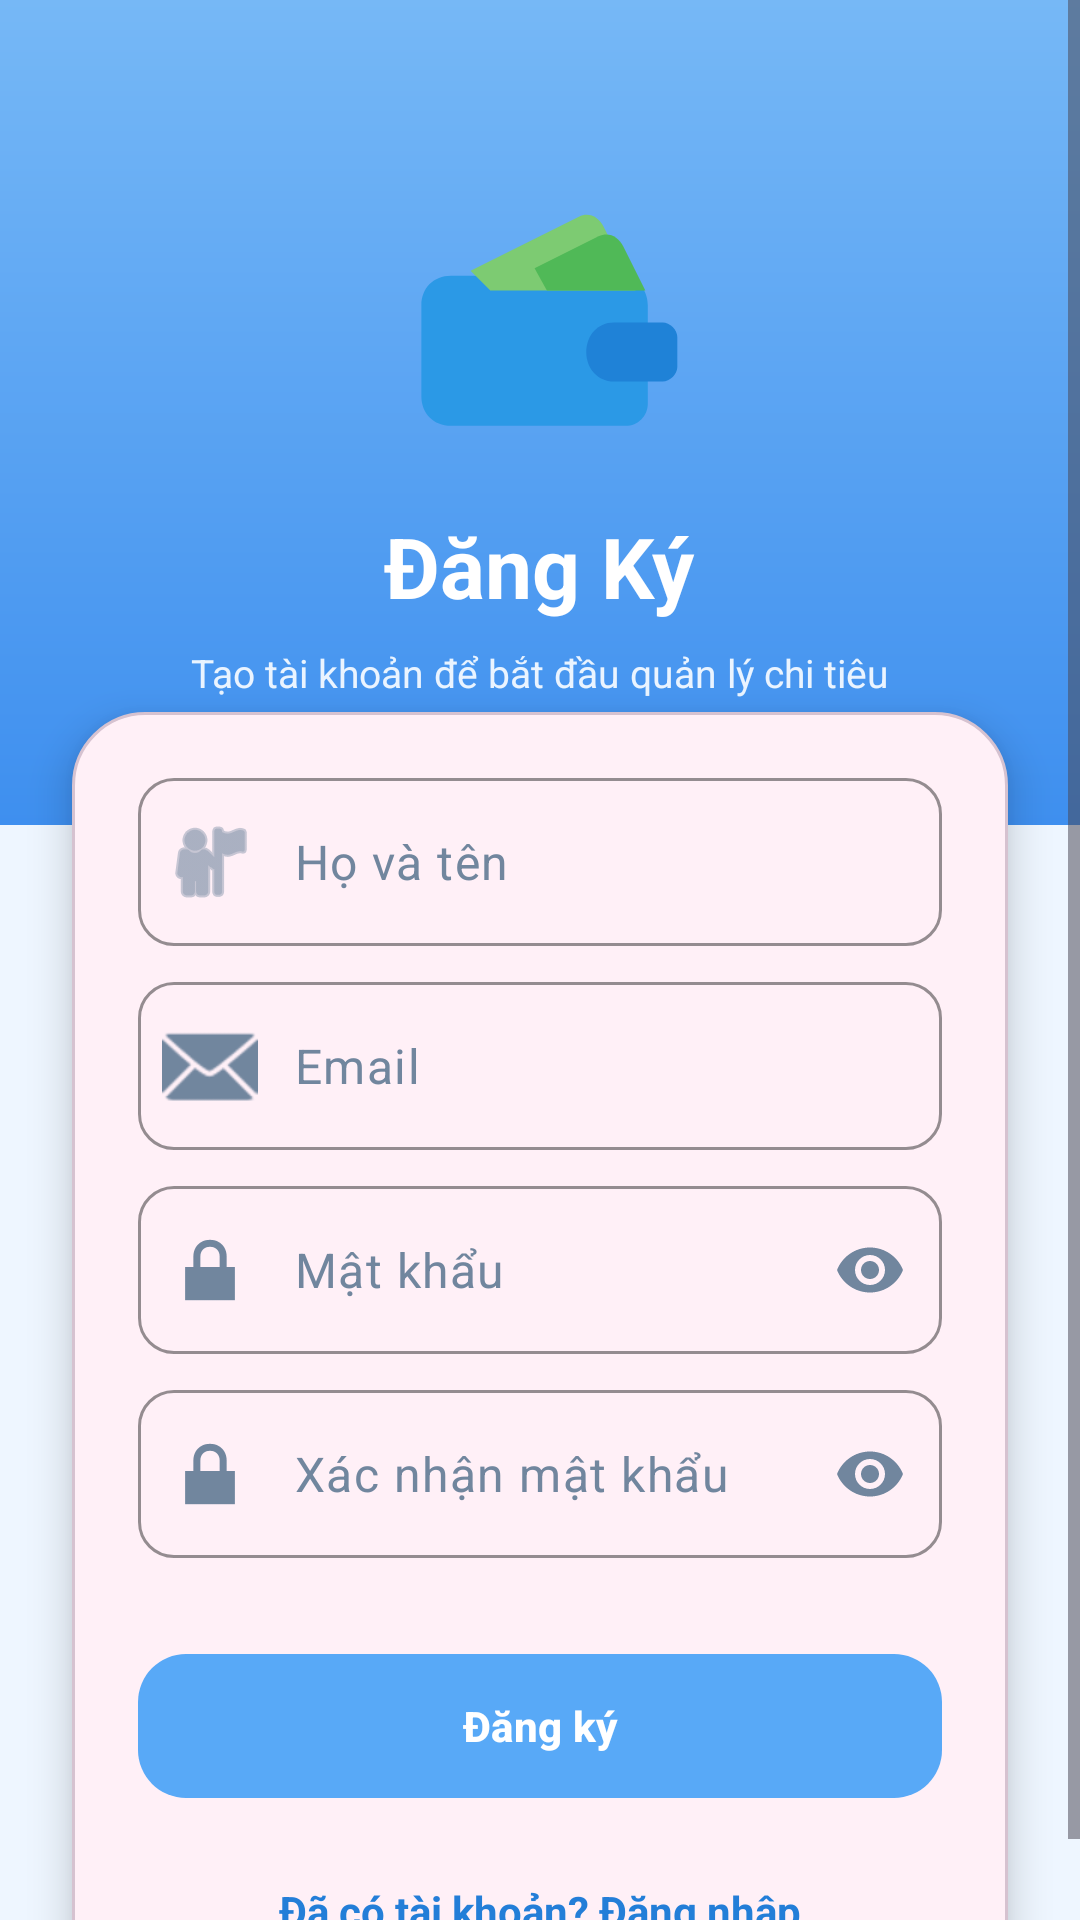

Where to tap for icons on this 1080 × 1920 app screen, as [x,y]:
wallet: [549,320]
